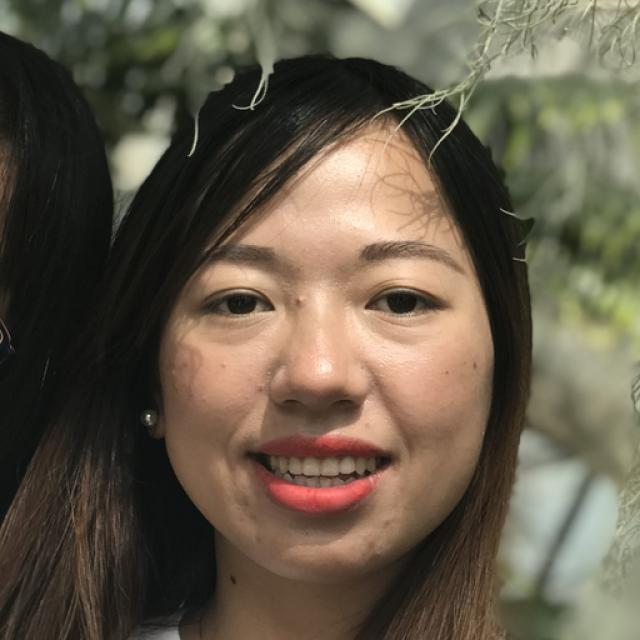Acne: (216, 352, 235, 375), (249, 376, 272, 395), (286, 293, 310, 309)
